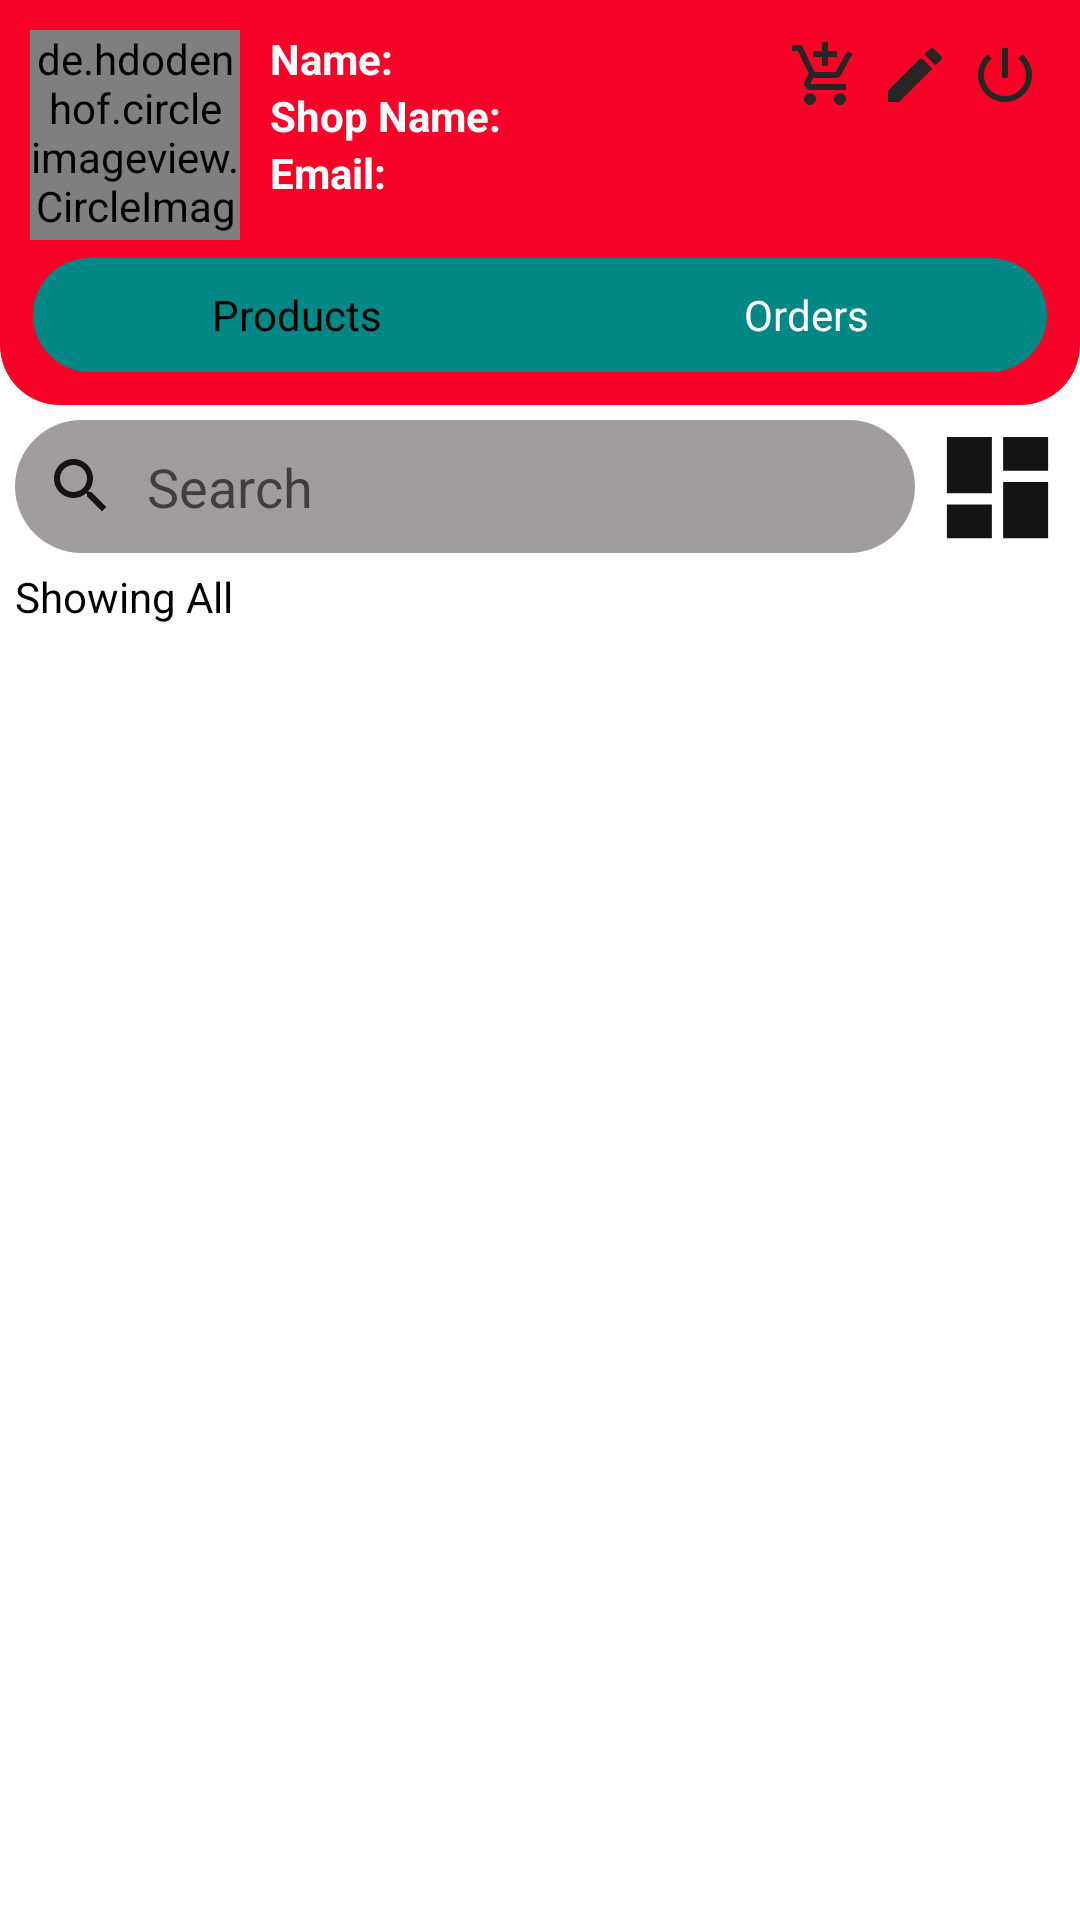

Icon click points for this 1080×1920 phone screenshot, format [x,y]:
add shopping cart: [822,73]
edit: [915,75]
power: [1005,75]
